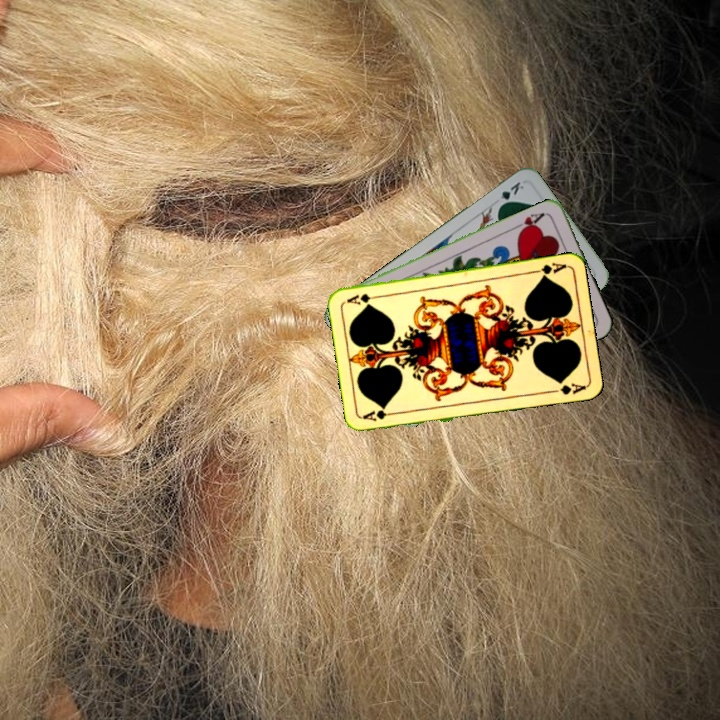GA: (528, 258, 569, 280), (359, 406, 400, 424)
GK: (494, 177, 526, 210)
HA: (510, 208, 549, 236)
